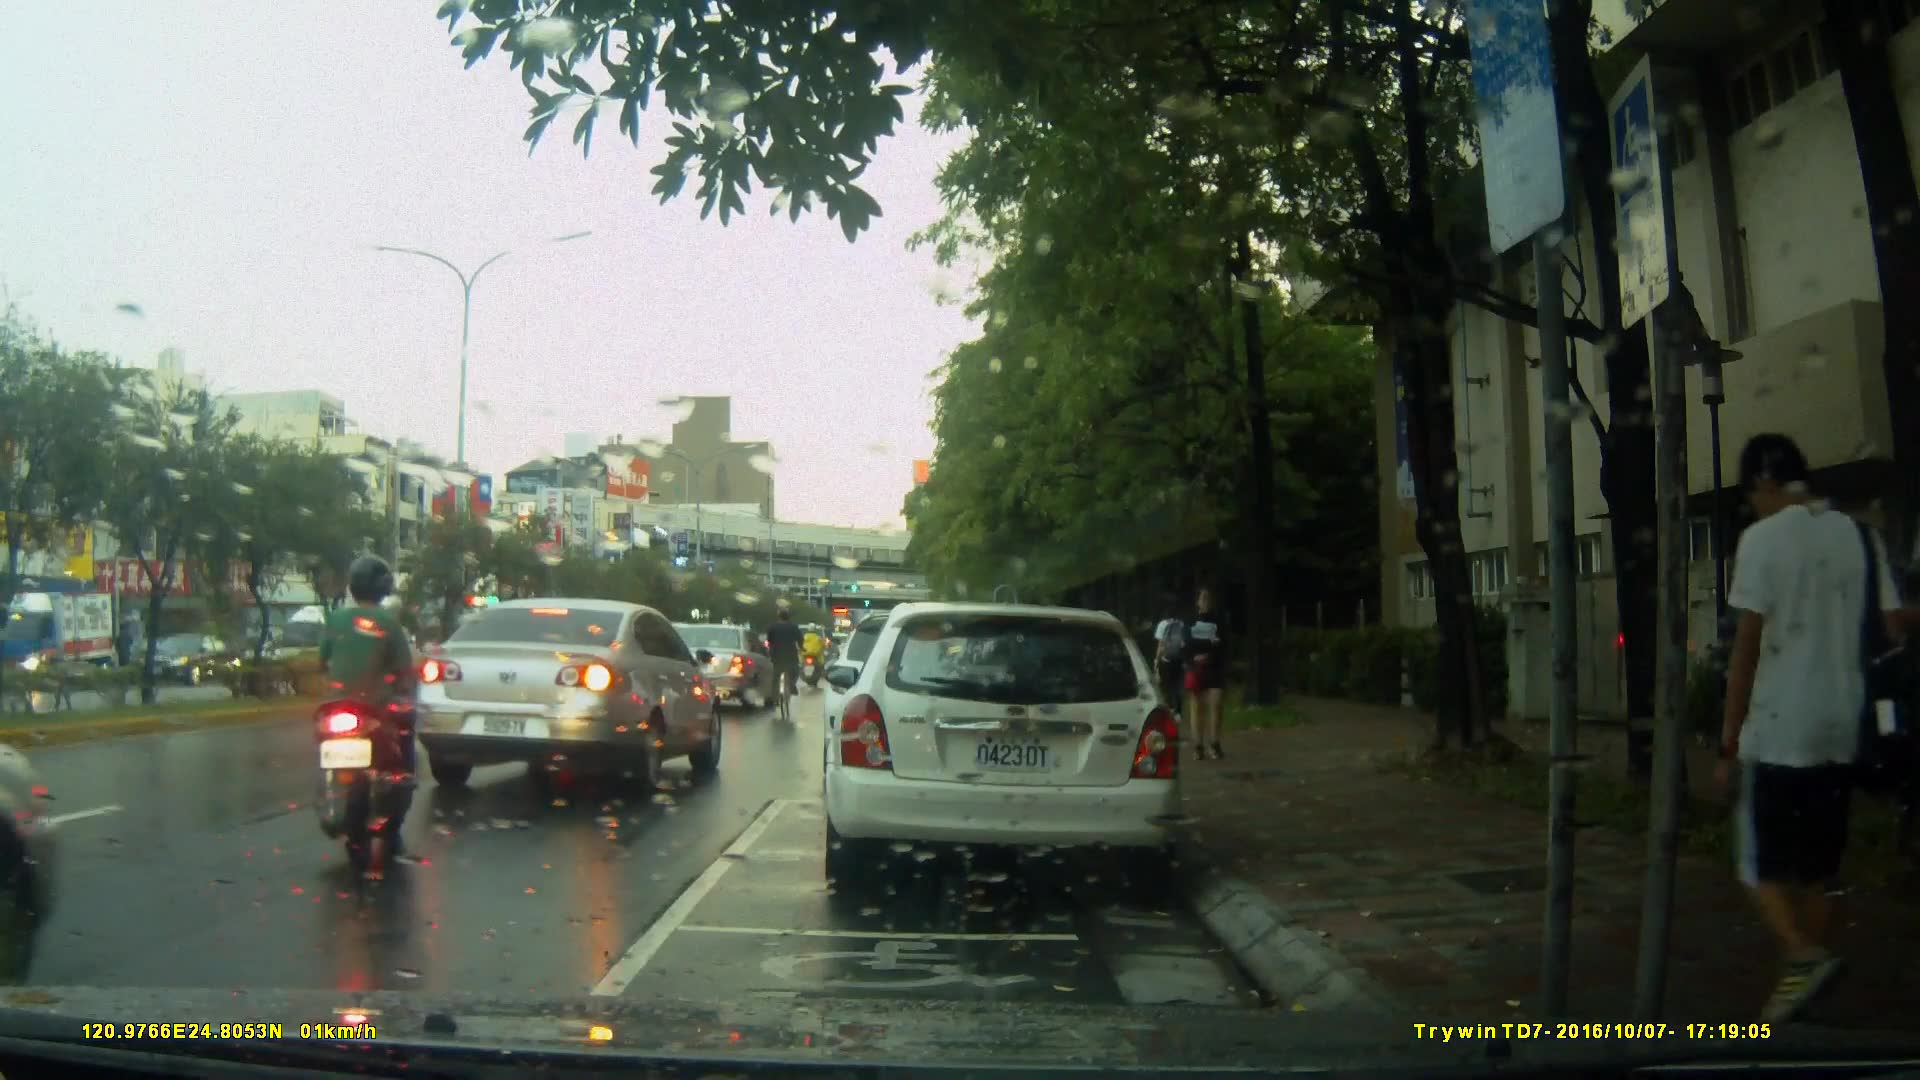pedestrian: (1696, 417, 1850, 1031), (1172, 588, 1231, 762), (1145, 604, 1193, 732)
rider: (302, 554, 407, 887), (322, 583, 429, 760), (764, 609, 802, 731), (801, 616, 831, 691)
vehicle: (820, 602, 1188, 898), (411, 594, 726, 799), (1, 587, 128, 699), (639, 624, 780, 715)
